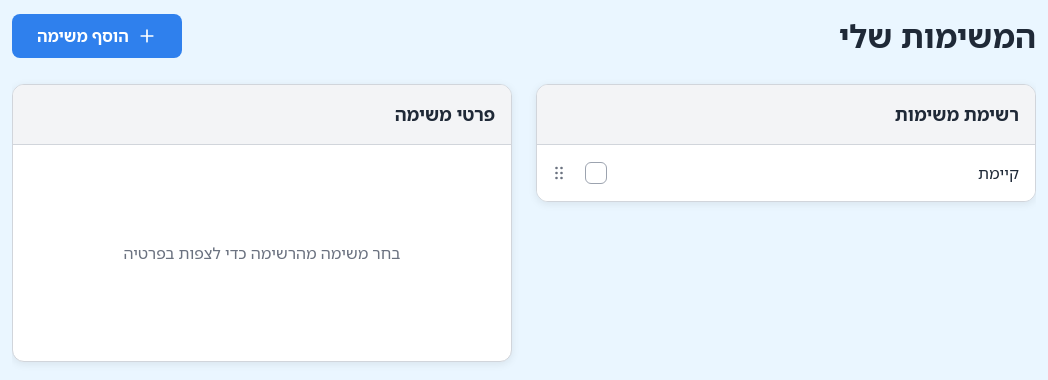
Test: HomePage – task status › a failure restores the previous value and shows a message in the list
Click the checkbox named "סימון השלמה: קיימת": click(596, 173) [585,162,607,184]
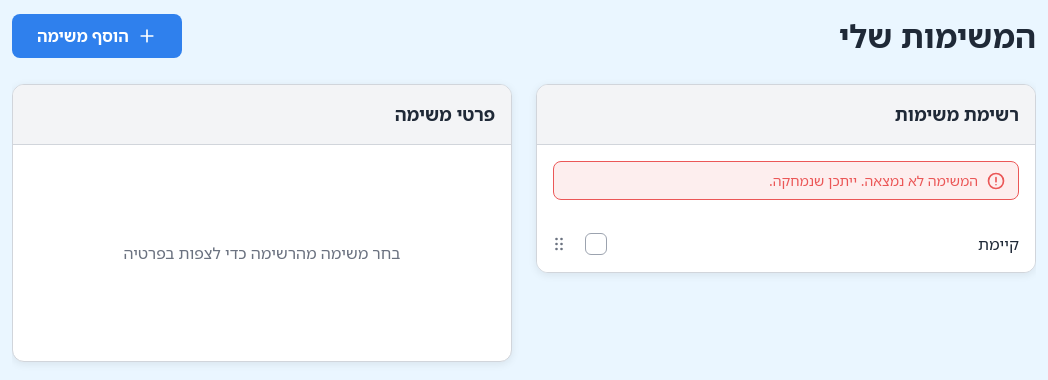
Expected: the checkbox named "סימון השלמה: קיימת" is not checked, [585,233,607,255]
Expected: the message shows "המשימה לא נמצאה", [769,171,978,190]
